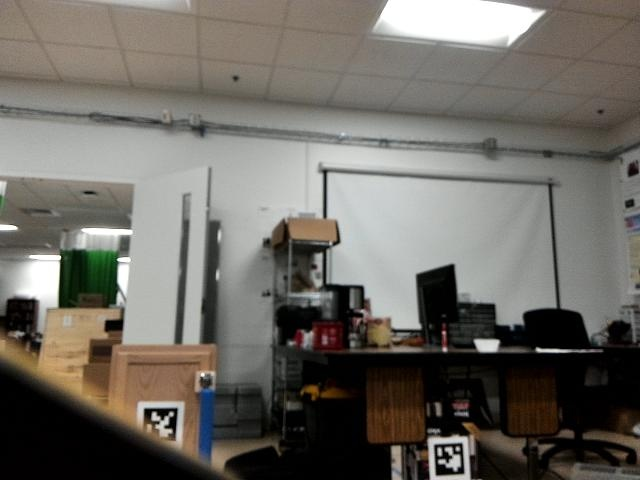noodle_handle: (196, 383, 213, 468)
